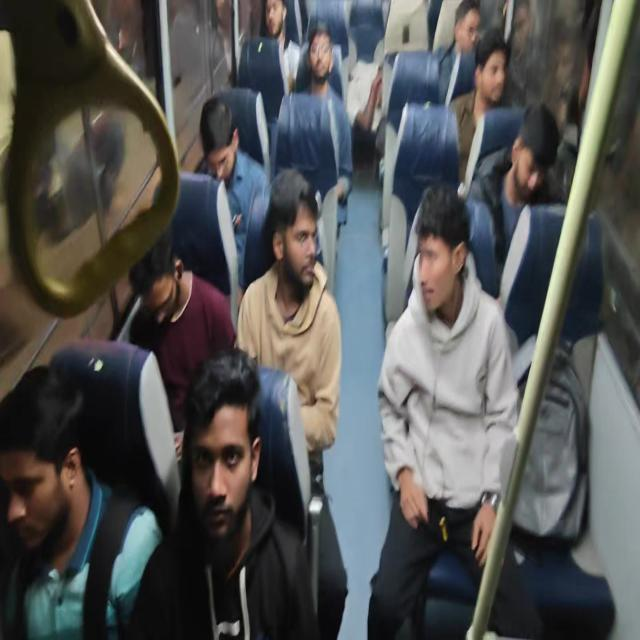person: (195, 336, 297, 640), (0, 395, 104, 581), (128, 224, 207, 368), (276, 145, 323, 331), (420, 210, 476, 303), (515, 120, 566, 197), (483, 41, 525, 132), (346, 51, 383, 140), (208, 106, 247, 187), (451, 0, 487, 69), (309, 23, 341, 83), (256, 7, 293, 43)
